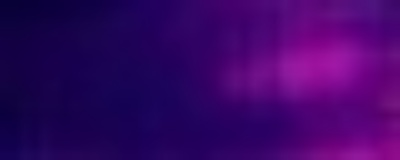Shadow: (1, 1, 220, 160), (220, 101, 298, 160)
